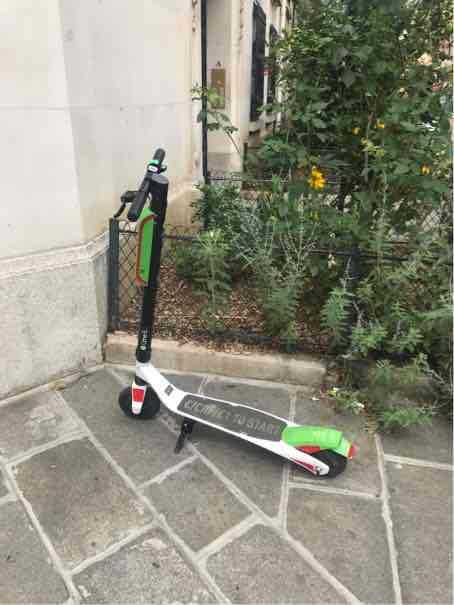scooter: (110, 138, 356, 484)
